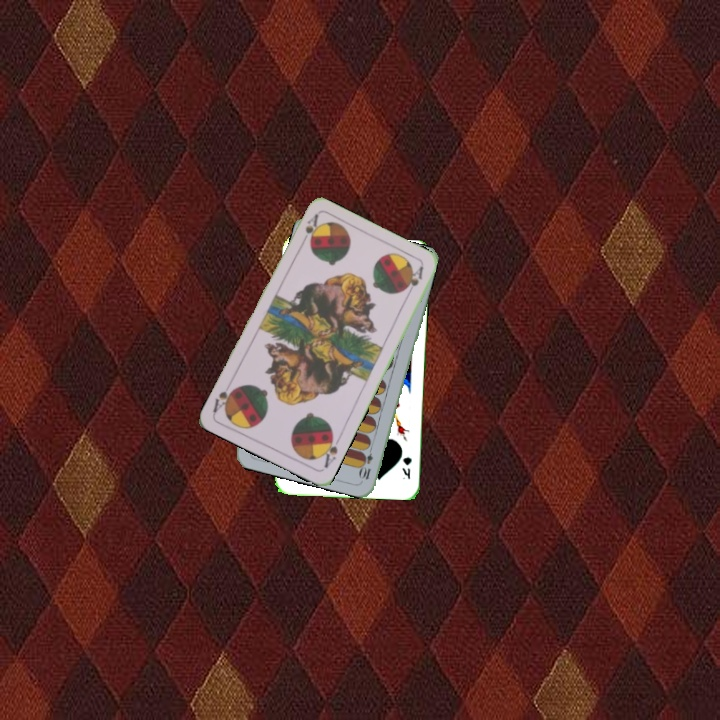E10: (357, 441, 376, 482)
GK: (398, 453, 414, 481)
SA: (317, 430, 343, 471), (297, 210, 321, 249)
